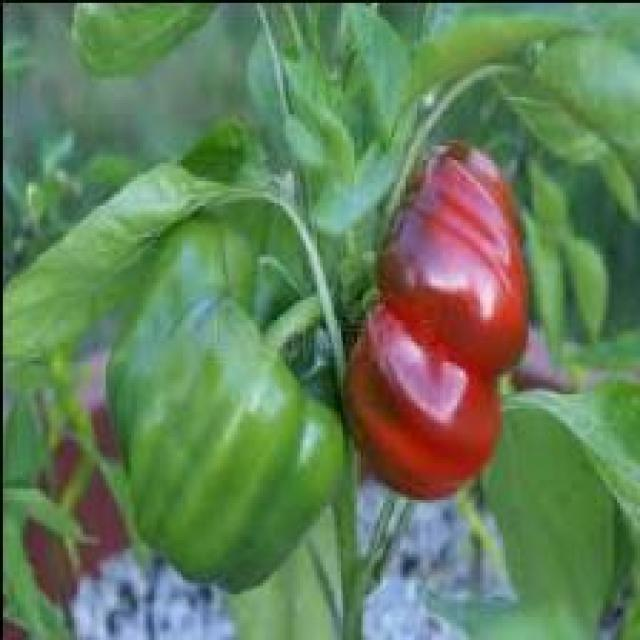Pepper: (103, 274, 337, 589), (343, 140, 531, 500)
